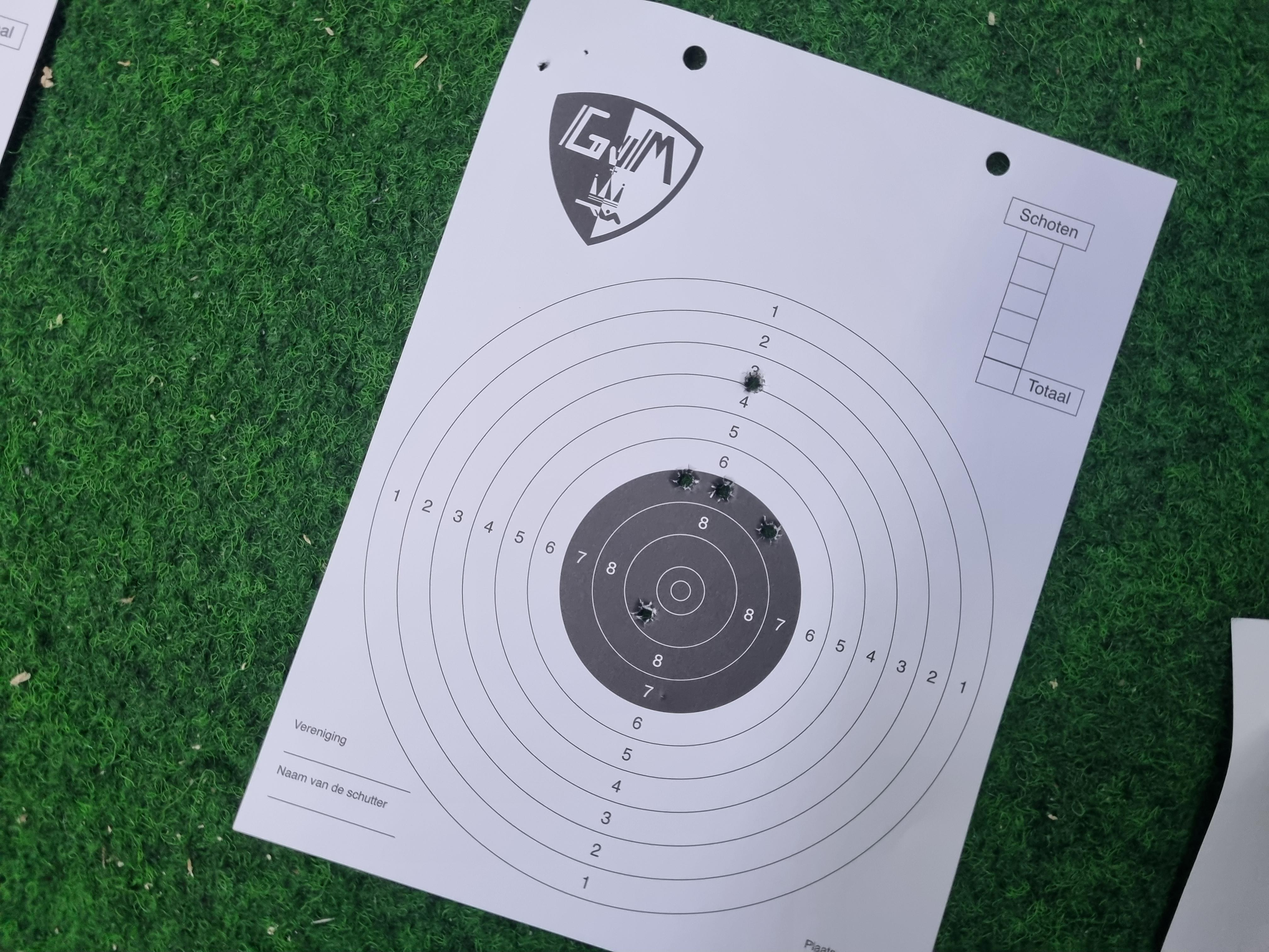hole: (603, 503, 645, 528), (436, 474, 472, 493), (546, 568, 582, 586), (599, 533, 631, 551), (744, 558, 775, 574)
